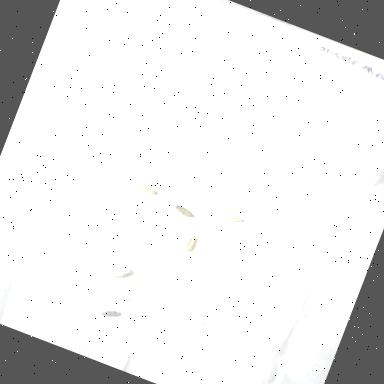pbw: (167, 199, 200, 223), (95, 304, 125, 326), (132, 178, 162, 200), (111, 262, 137, 285), (222, 210, 250, 230), (180, 231, 202, 256)
